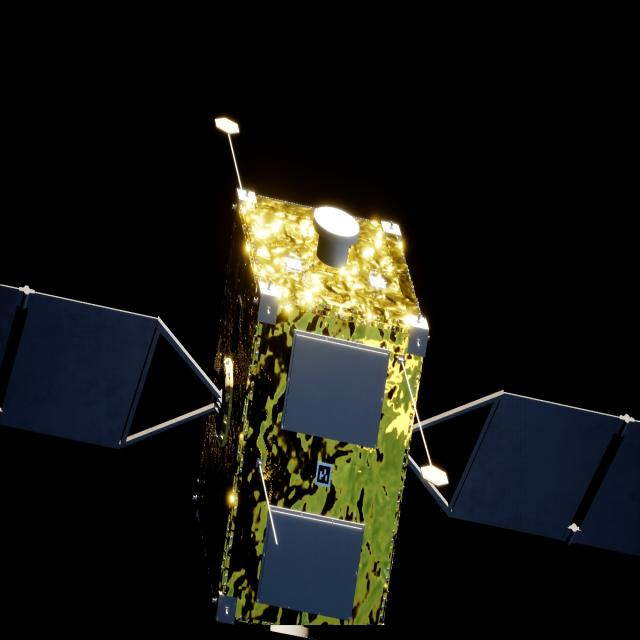satellite: (0, 187, 640, 627)
